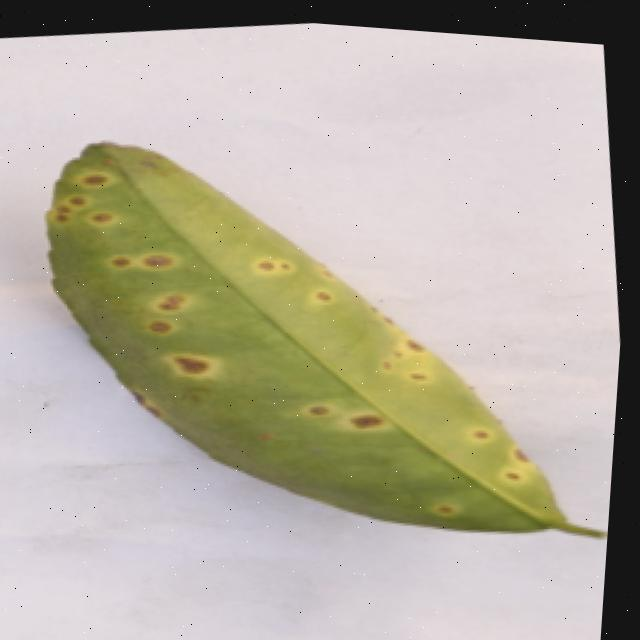canker: (46, 145, 602, 535), (87, 226, 223, 424), (355, 281, 443, 400), (33, 149, 133, 250), (459, 394, 545, 503), (288, 382, 399, 450), (246, 244, 301, 289), (298, 271, 346, 314), (430, 482, 466, 525)
